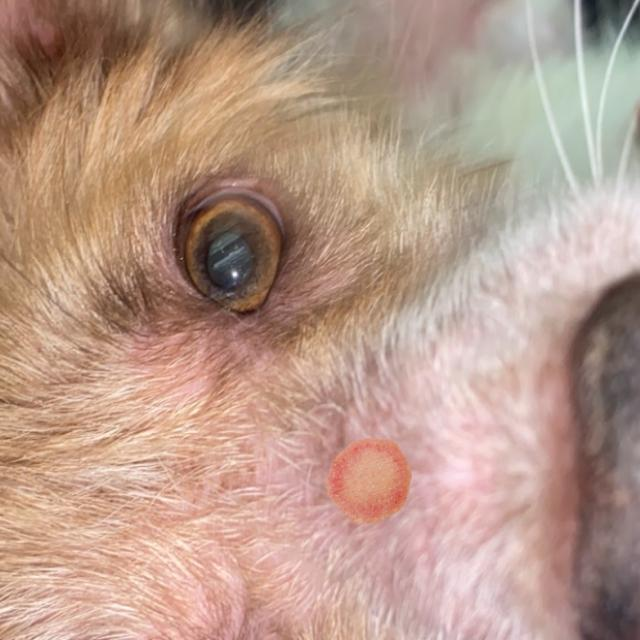ringworm: (288, 416, 426, 538)
